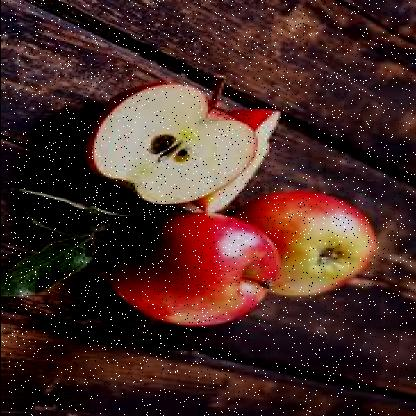apple: (107, 212, 277, 328), (262, 190, 384, 302)
damaged_apple: (80, 68, 250, 206)
